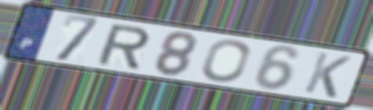6: (250, 43, 304, 93)
7: (54, 12, 100, 65)
8: (154, 30, 201, 77)
K: (301, 50, 354, 100)
O: (200, 39, 252, 83)
R: (94, 23, 153, 70)
